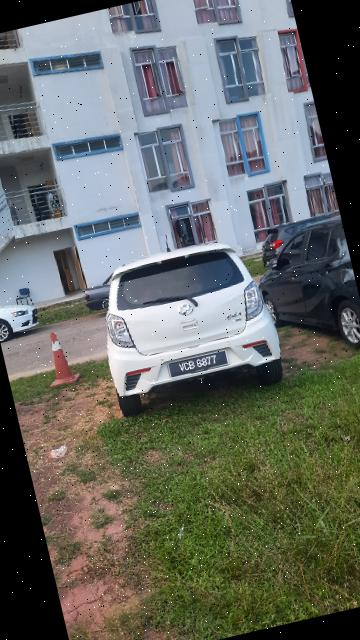License_Plate: (165, 346, 234, 381)
car: (82, 223, 294, 422)
